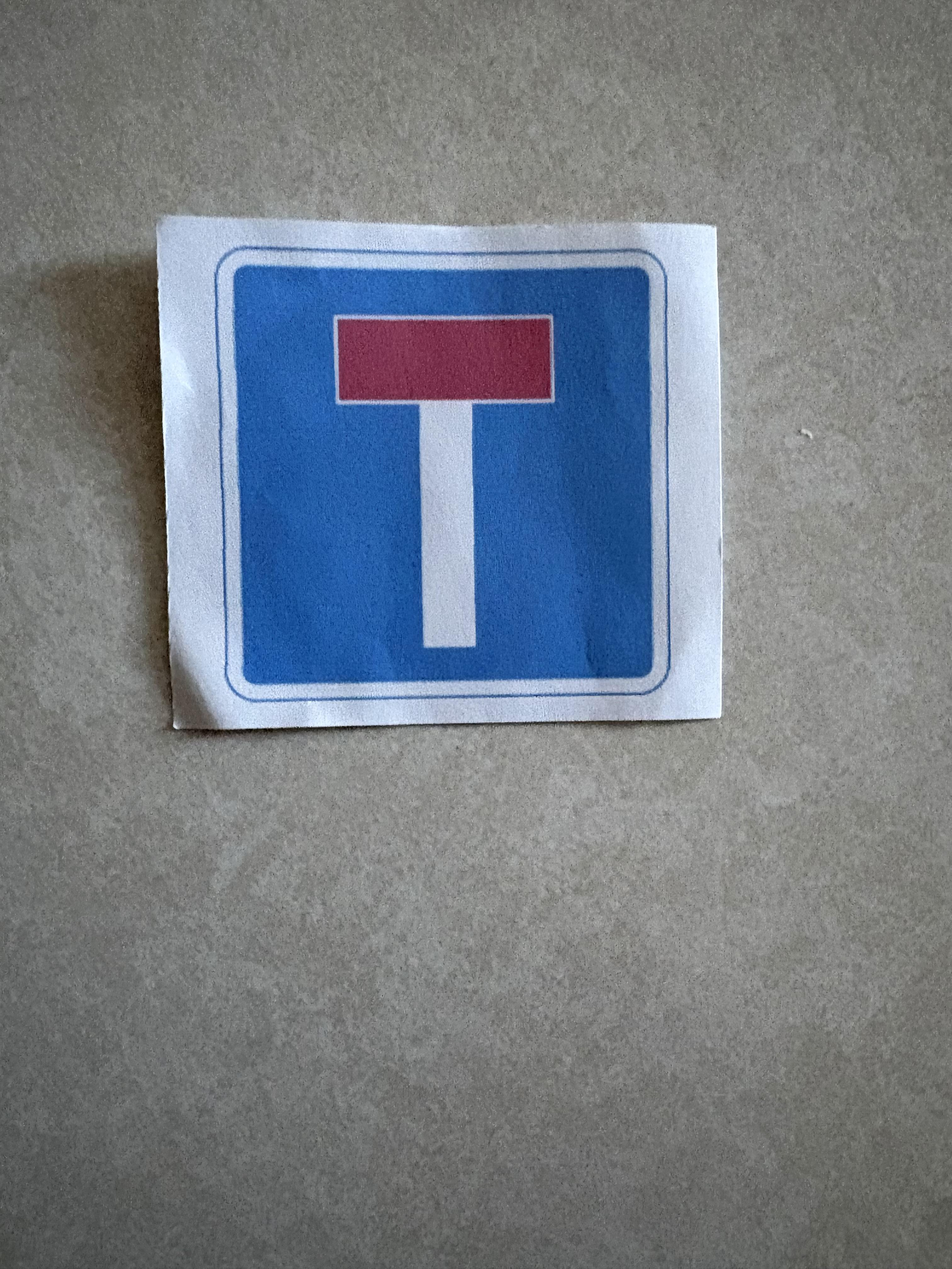Dead End: (164, 216, 729, 740)
